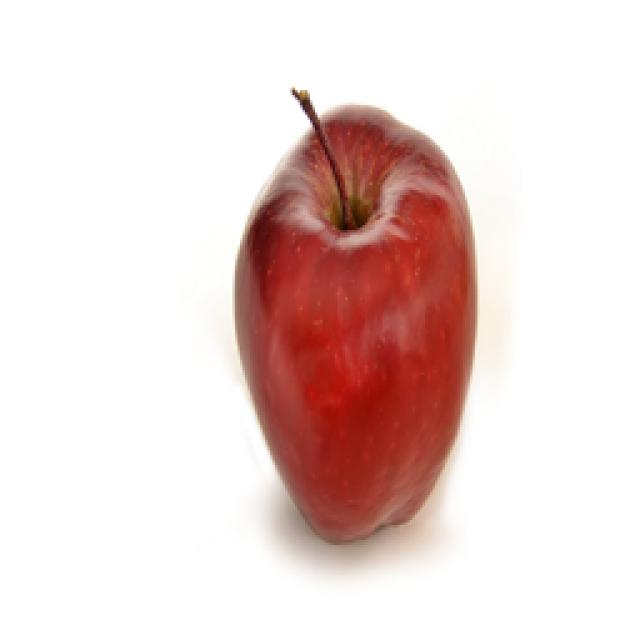Fresh_Apple: (223, 78, 493, 575)
